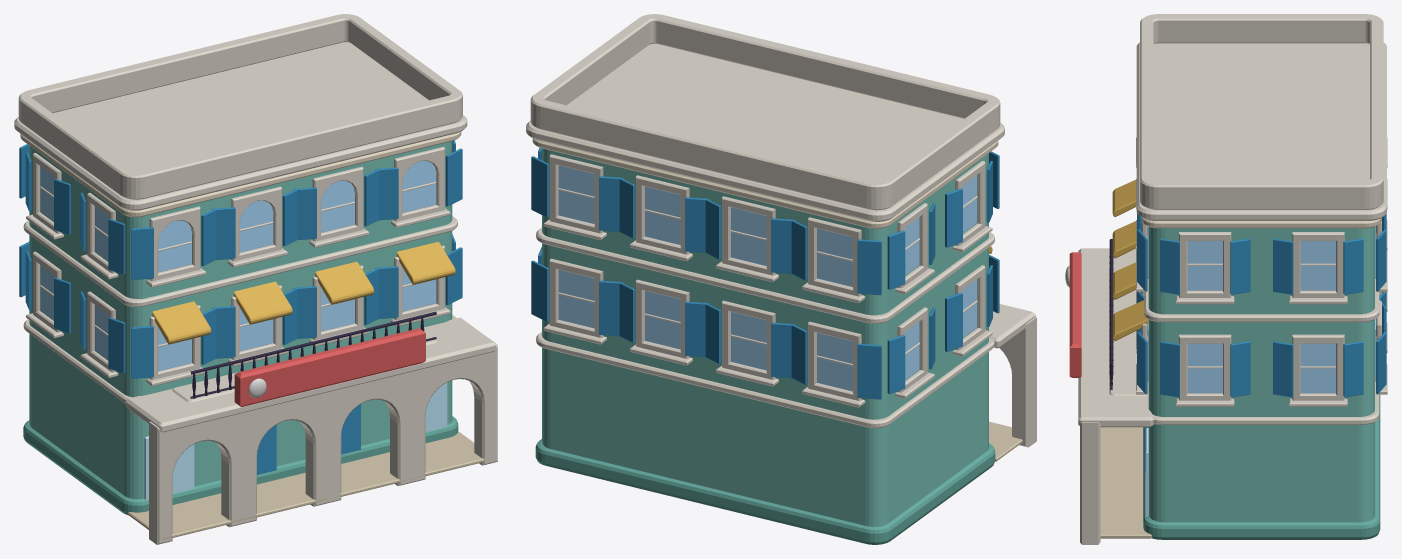
The model's file is colonial_b.glb.
3 renders of one model, left to right at view 1: azimuth 30°, elevation 25°; view 2: azimuth 150°, elevation 25°; view 3: azimuth 270°, elevation 25°, orthographic. The views are drawn at different scales.
Parts seen in each view (by area): view 1: colonial_b_corpo, colonial_b_vidro; view 2: colonial_b_corpo, colonial_b_vidro; view 3: colonial_b_corpo, colonial_b_vidro.
Part boxes in pixels (<box>): colonial_b_corpo: <box>14,14,497,544</box>; colonial_b_vidro: <box>40,161,447,500</box>; colonial_b_corpo: <box>526,14,1036,544</box>; colonial_b_vidro: <box>558,165,976,391</box>; colonial_b_corpo: <box>1065,14,1387,544</box>; colonial_b_vidro: <box>1145,226,1375,516</box>.
Size of the model in its own units: 12.14 by 11.54 by 9.4.
